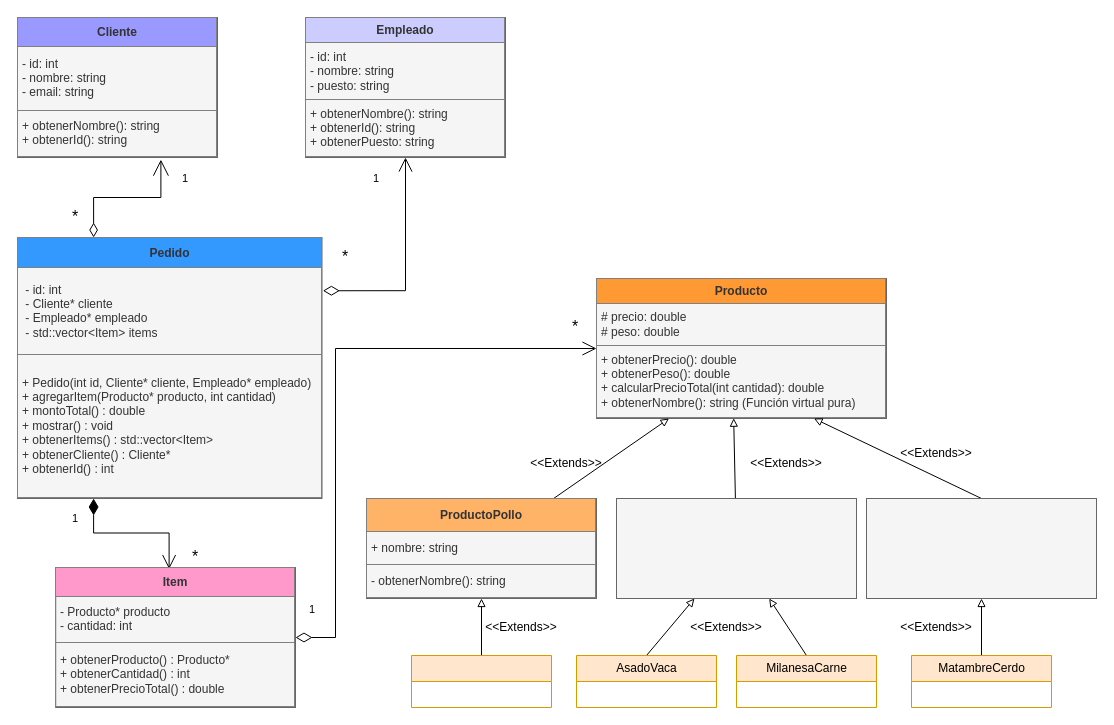
Some shapes in this 1114 by 725 pixel diagram are drawn without their labels. Each missing label, with the box of its shape:
MilanesaPollo: (410, 654, 552, 708)
ProductoCerdo + nombre: string - obtenerNombre(): string: (866, 498, 1096, 598)
ProductoVacuno - nombre: string + obtenerNombre(): string: (616, 498, 856, 598)
